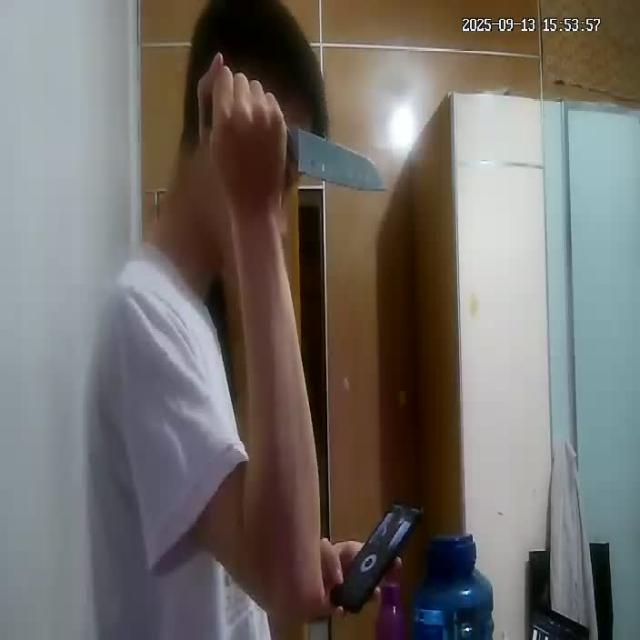senjata_tajam: (287, 125, 388, 196)
